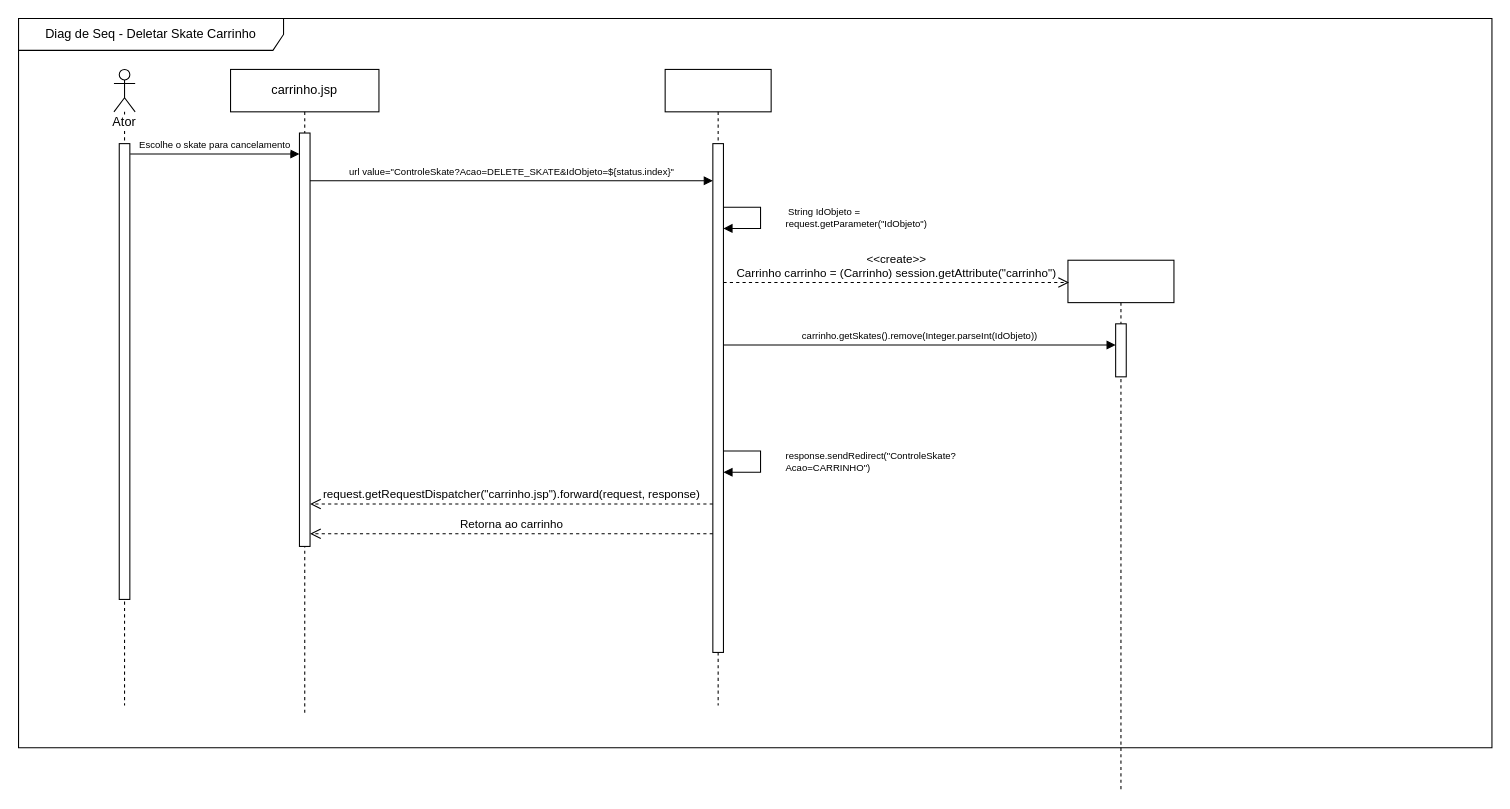
Some shapes in this 1510 by 809 pixel diagram are drawn without their labels. Each missing label, with the box of its shape:
Carrinho.java: (1067, 259, 1174, 790)
Controle Skate.java: (664, 68, 771, 705)
